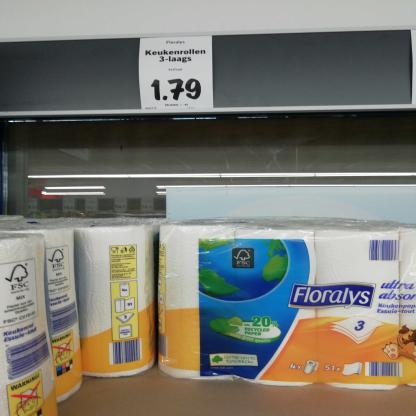prtg: (140, 37, 215, 110)
